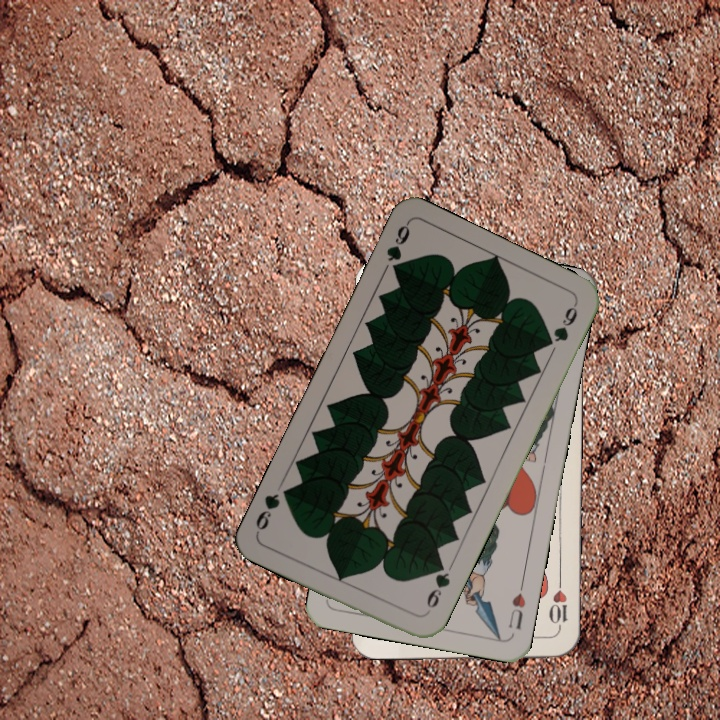G9: (382, 219, 413, 279), (422, 558, 453, 611)
H10: (545, 575, 570, 634)
HU: (504, 578, 528, 633)
